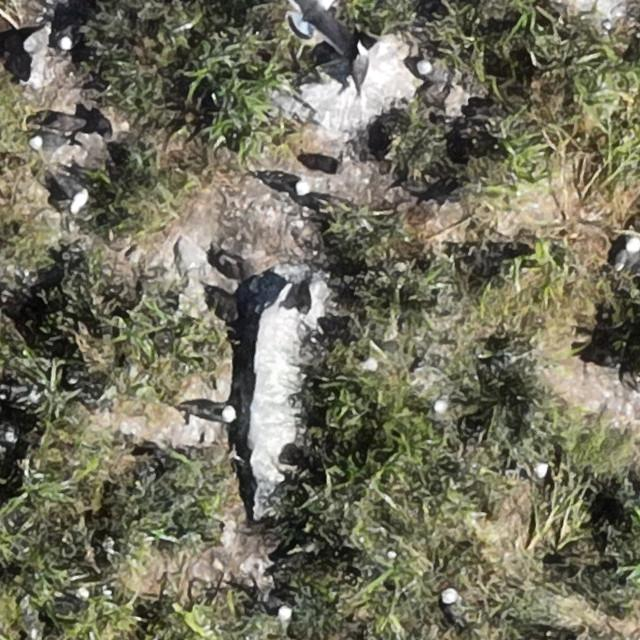F: (289, 0, 351, 50)
umineko: (440, 586, 467, 635), (364, 338, 401, 372), (260, 174, 302, 194), (417, 62, 450, 86), (191, 404, 232, 422), (261, 593, 290, 618), (616, 240, 638, 268), (351, 47, 366, 84), (32, 134, 63, 150), (421, 398, 452, 412), (70, 187, 86, 212), (58, 30, 75, 51), (534, 462, 550, 481)
